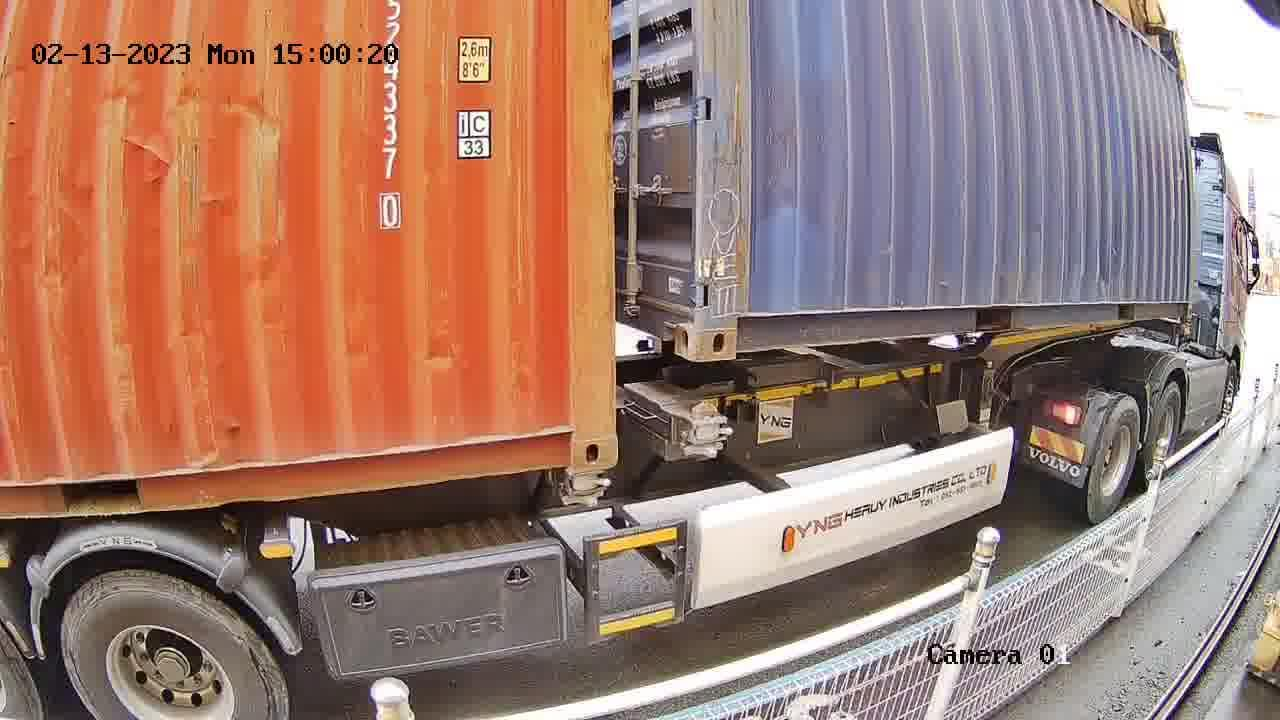Cone: (679, 404, 728, 462), (558, 472, 606, 511)
Hole_L: (697, 288, 774, 361)
Hole_R: (526, 392, 615, 476)
Tire: (64, 574, 282, 719), (1088, 399, 1140, 519), (1144, 385, 1183, 476)
